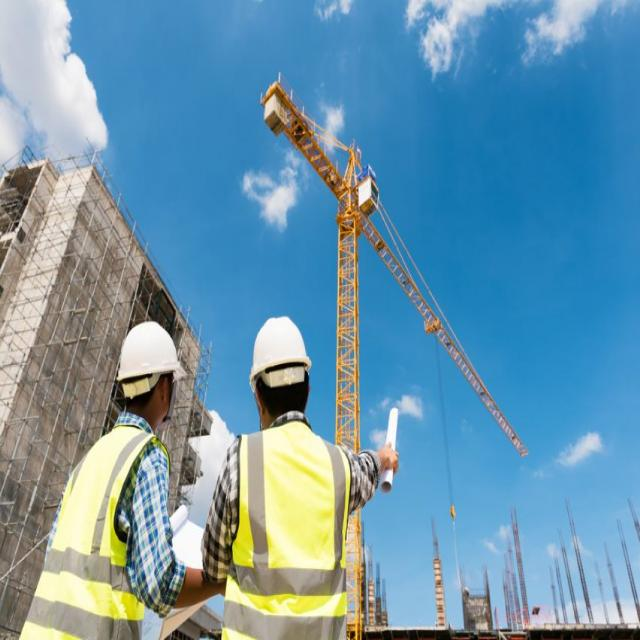Reflective-Jacket: (11, 422, 169, 639), (218, 417, 357, 639)
Safety-Helmet: (110, 311, 183, 385), (246, 307, 314, 384)
